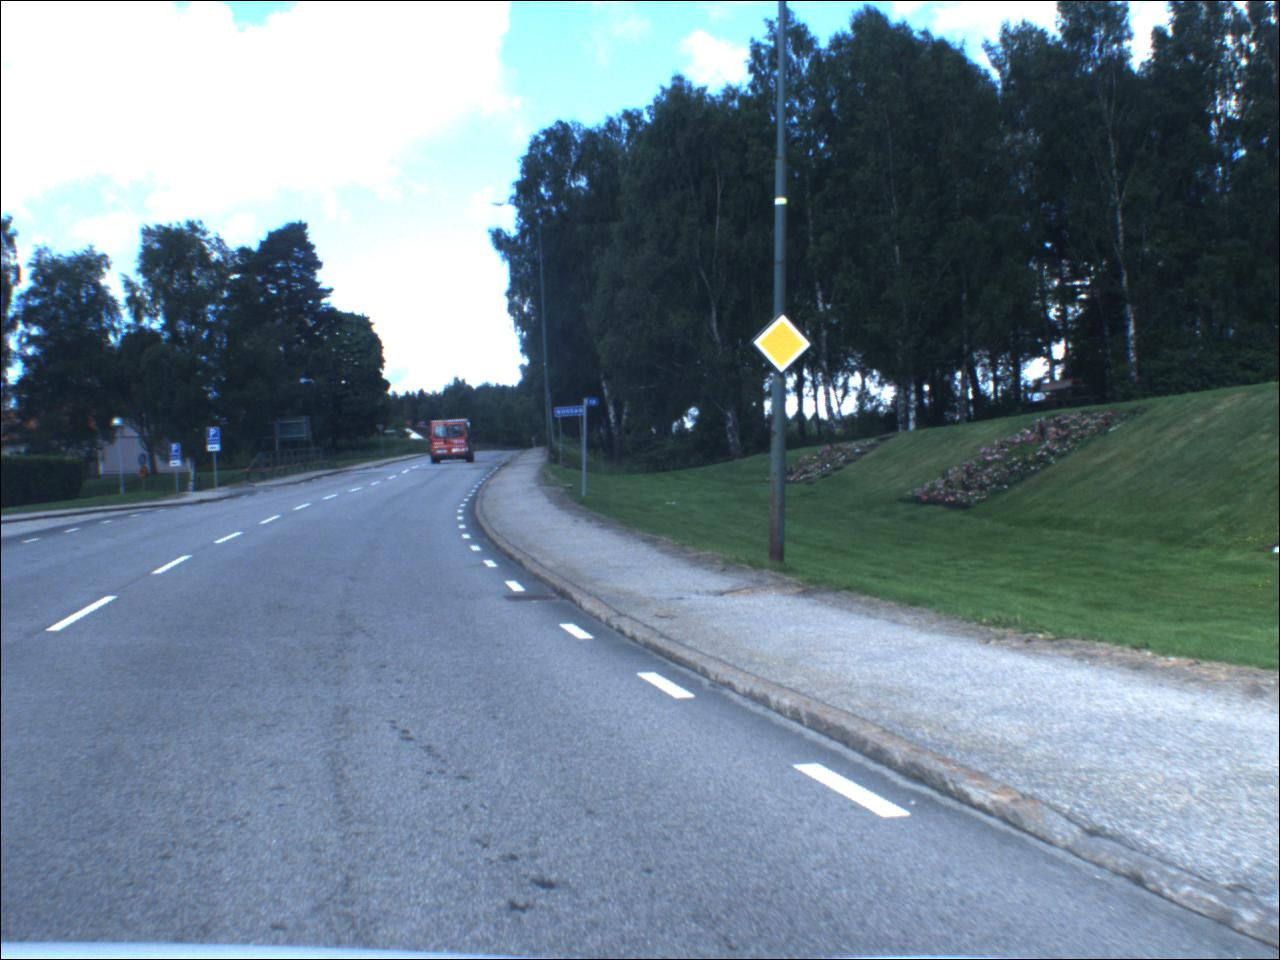PRIORITY_ROAD: (753, 315, 817, 375)
